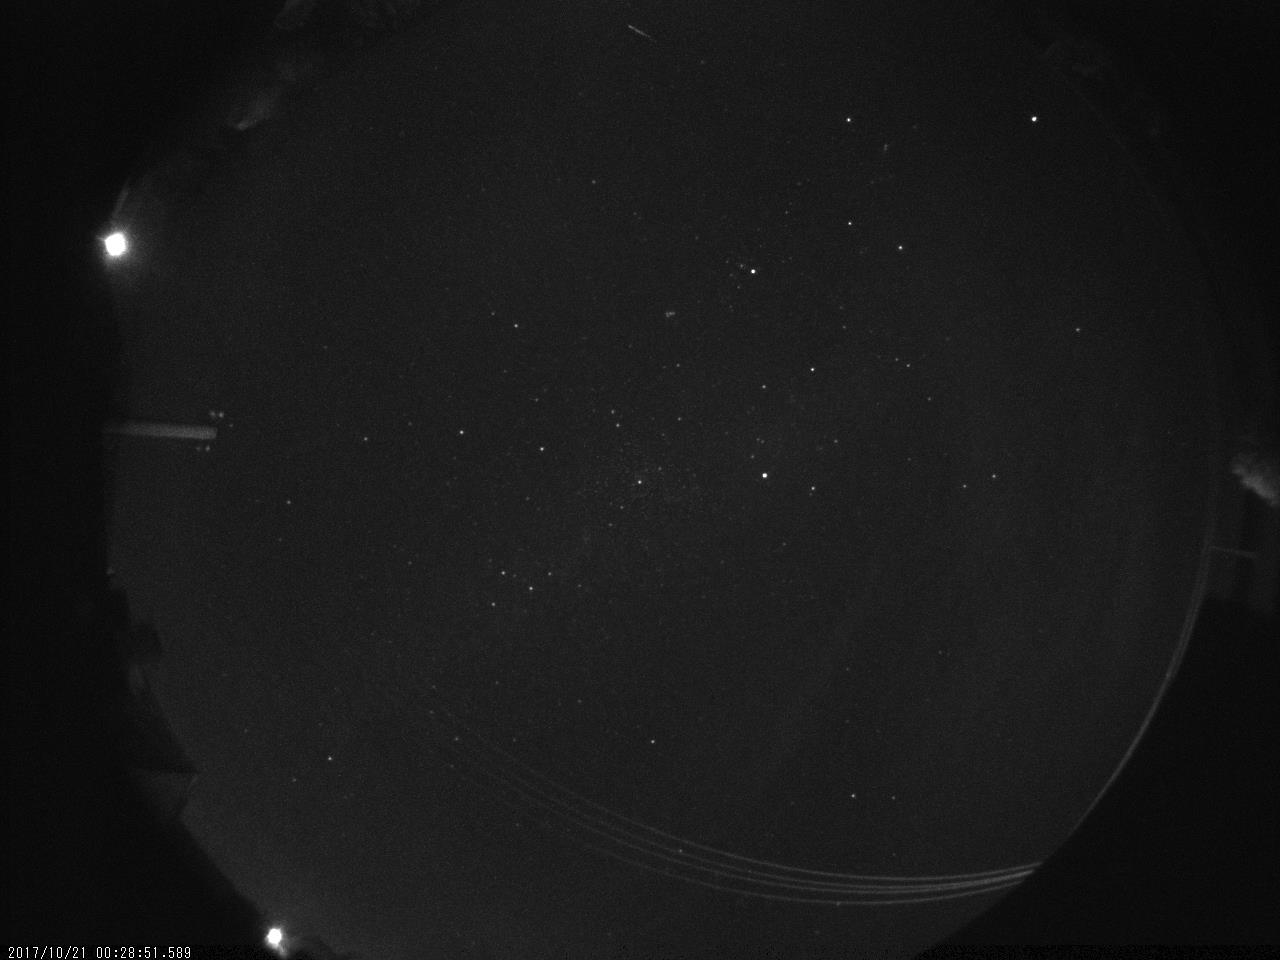meteor: (610, 19, 687, 45)
